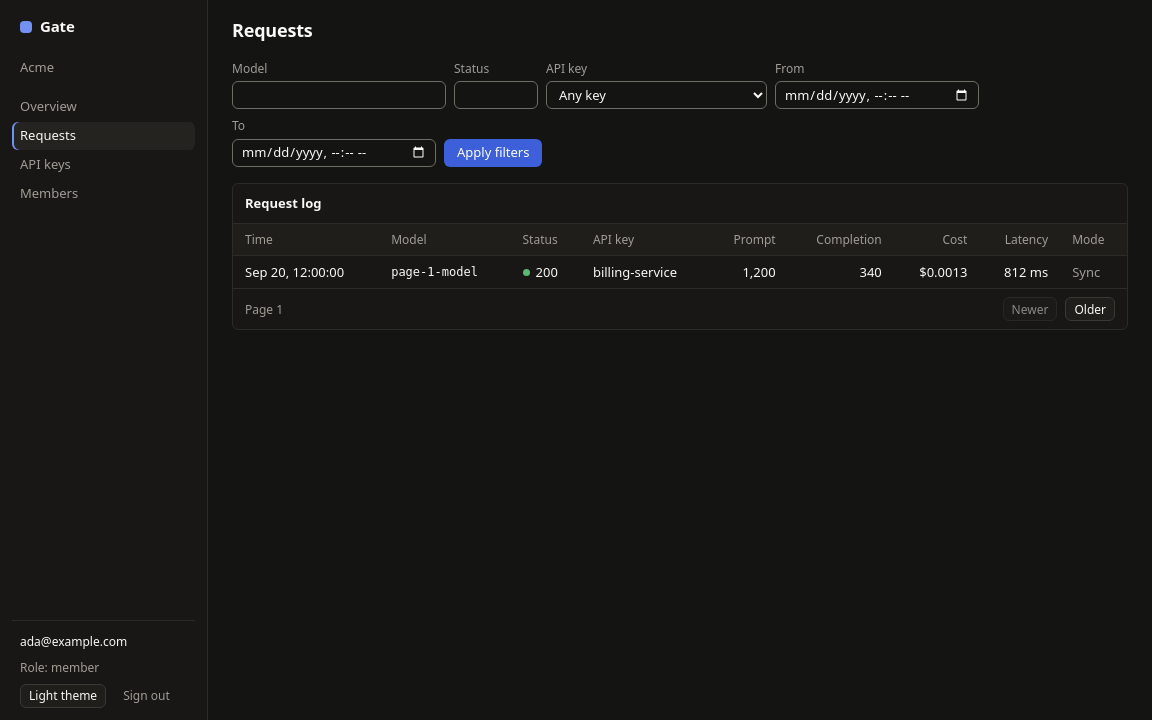
Test: requests: filters › apply to the URL and the query, and clear
Expected: the text "page-1-model" is shown, [379,256,511,288]
Type "gpt-4o" into the field labelled "Model" at (339, 95), box [232,81,446,109]
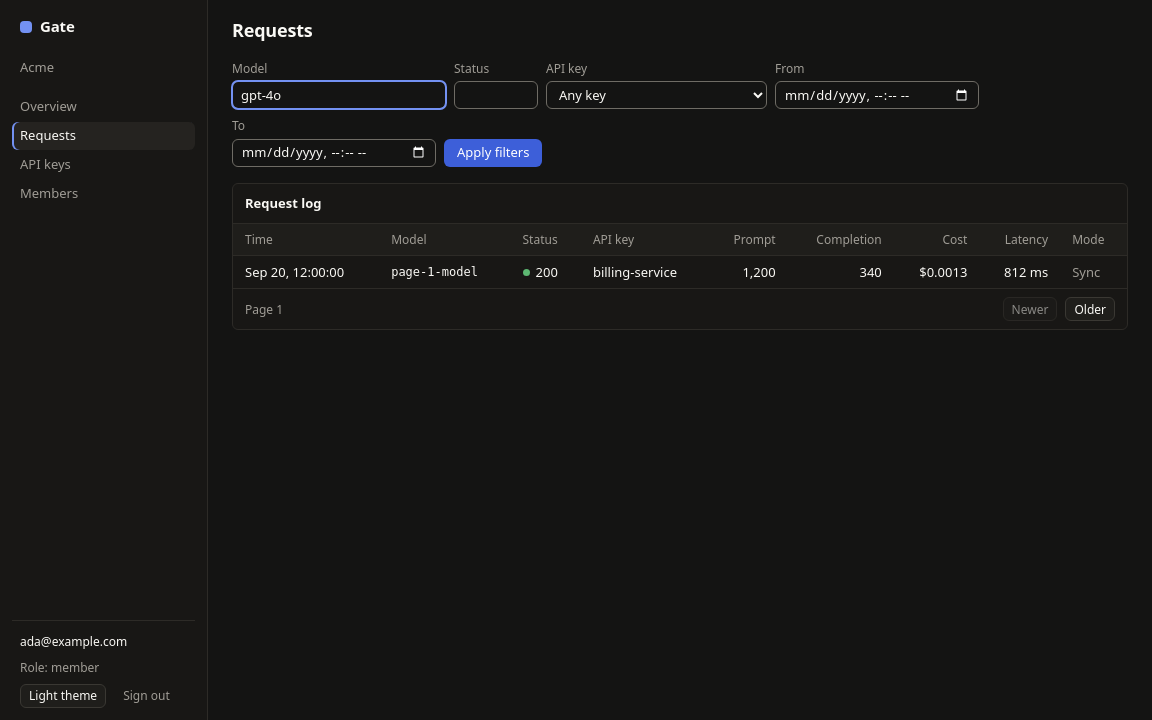
Type "429" into the number field labelled "Status" at (496, 95), box [454,81,538,109]
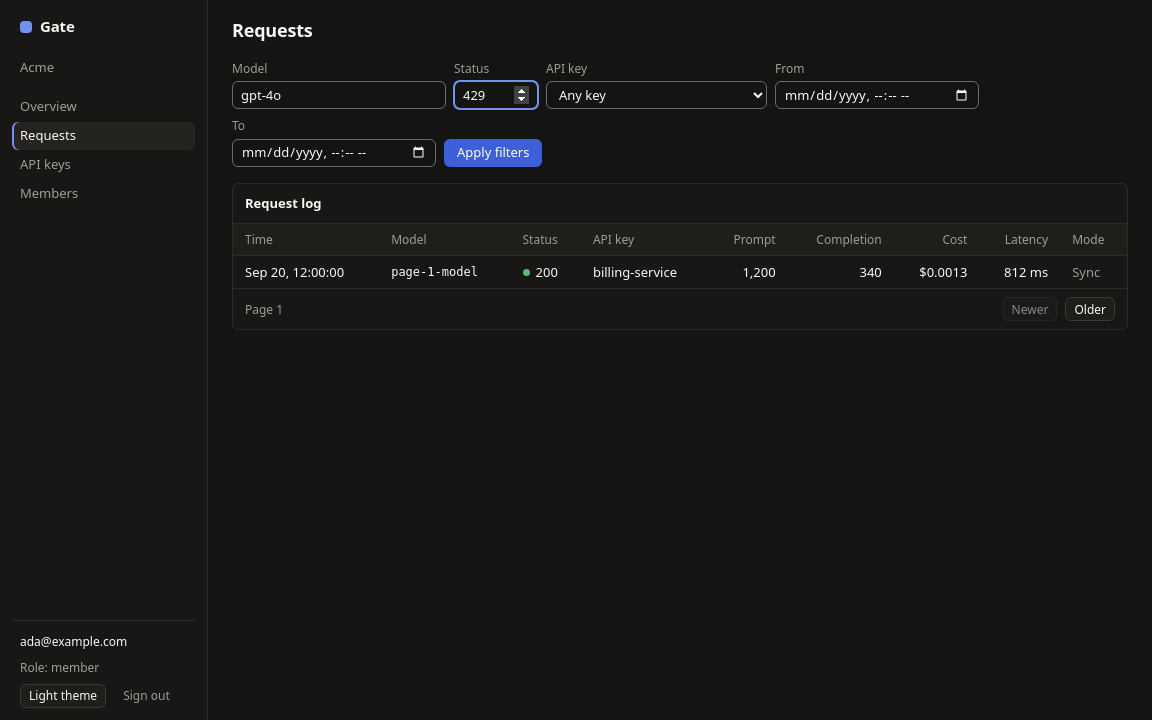
Select "billing-service (gk_live_ab12…)" in the dropdown labelled "API key" at (656, 95), box [546,81,767,109]
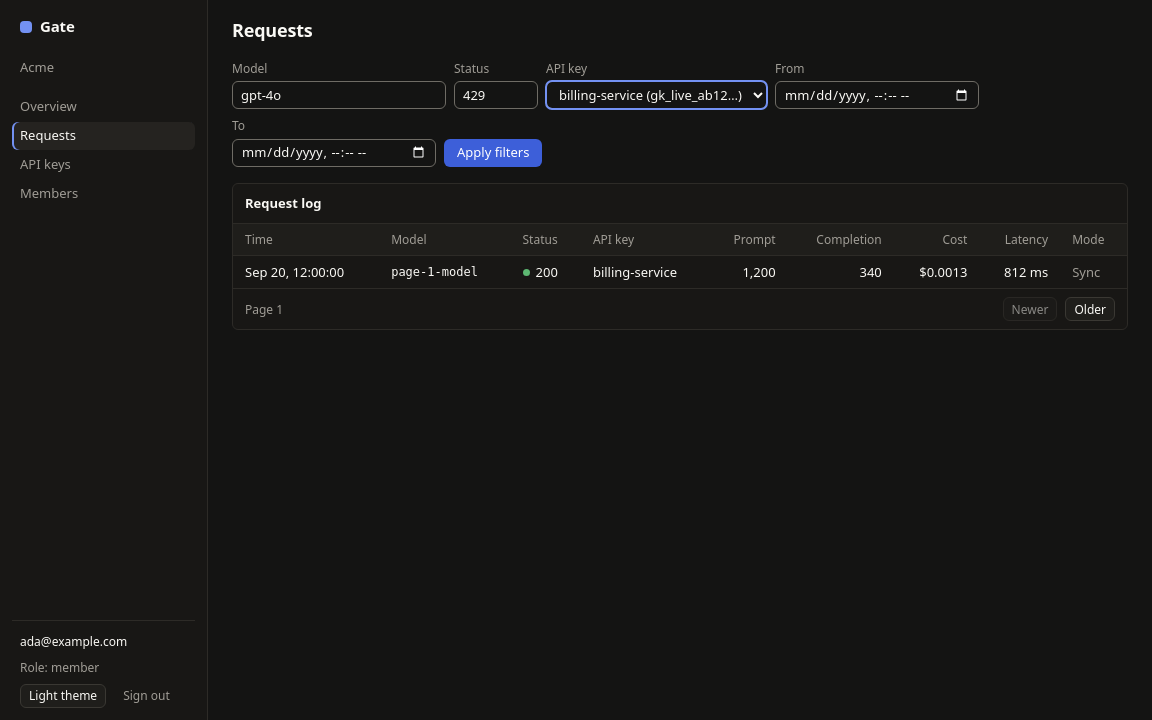
Click the button "Apply filters" at (493, 153), box [444,139,542,167]
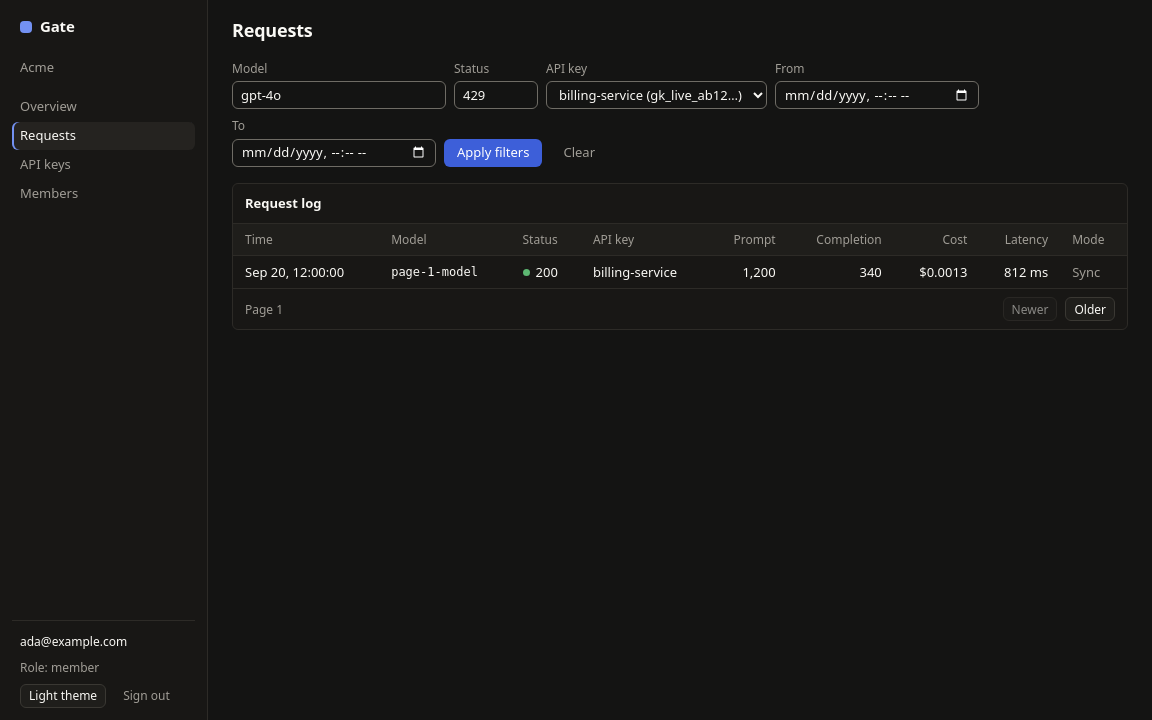
Click the button "Clear" at (579, 153), box [550,139,608,167]
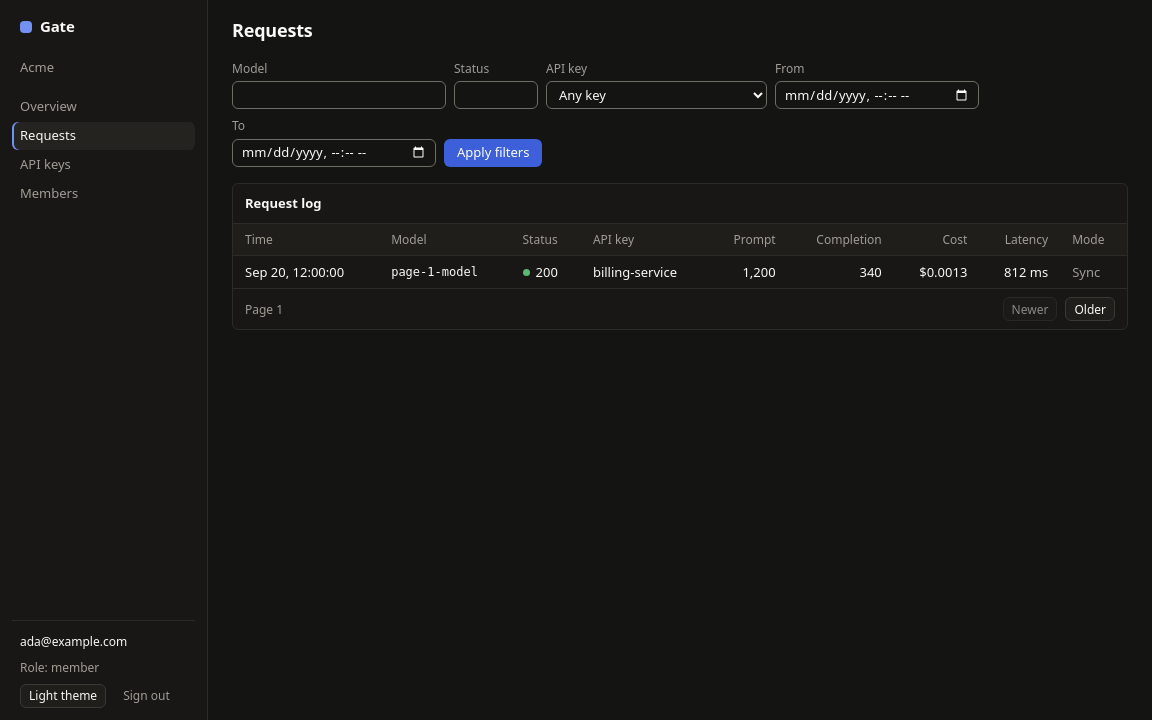
Result: the field labelled "Model" is empty at [232,81,446,109]
